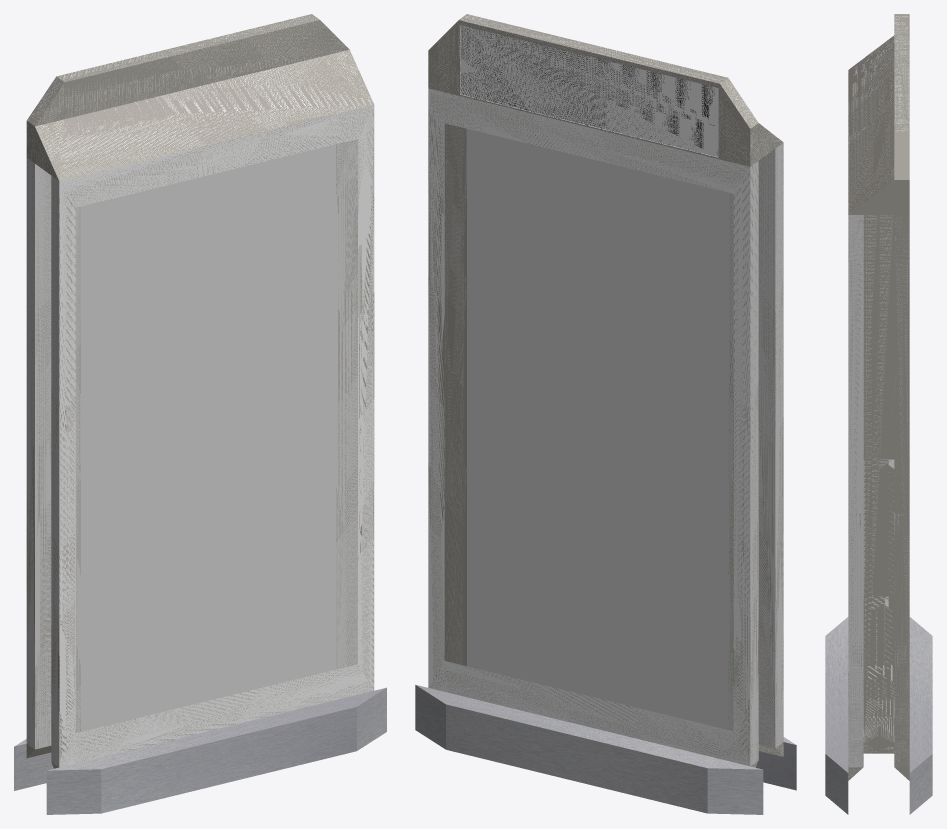
The model's file is KrexanP7.dae.
3 renders of one model, left to right at view 1: azimuth 30°, elevation 25°; view 2: azimuth 150°, elevation 25°; view 3: azimuth 270°, elevation 25°, orthographic. The views are drawn at different scales.
Parts seen in each view (by area): view 1: SketchUp (×8); view 2: SketchUp (×9); view 3: SketchUp (×5).
Part boxes in pixels (box(x1,y1,x2,y2)): SketchUp (×8): box(14, 14, 386, 814); SketchUp (×9): box(415, 14, 796, 814); SketchUp (×5): box(825, 14, 932, 814).
Size of the model in its own units: 47.42 by 13.78 by 93.79.
Materials: 6 (5 with a texture image).
